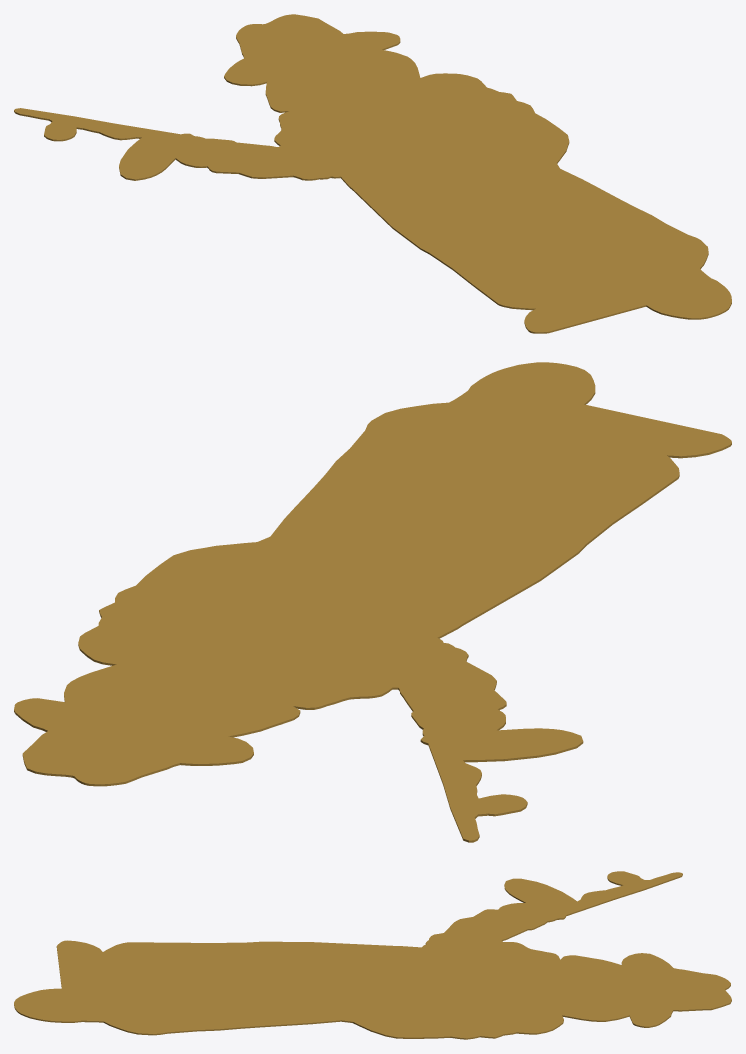
File: Blackjack Dealer Cardboard 2.fbx
The picture shows the model from 3 angles, top to bottom: view 1: azimuth 30°, elevation 25°; view 2: azimuth 150°, elevation 25°; view 3: azimuth 270°, elevation 25°; orthographic projection. The views are drawn at different scales.
Parts seen in each view (by area): view 1: Cardboard_Piece; view 2: Cardboard_Piece; view 3: Cardboard_Piece.
Boxes of the visible parts, x1,y1,x2,y2 form: Cardboard_Piece: (14, 14, 731, 333); Cardboard_Piece: (14, 362, 731, 842); Cardboard_Piece: (14, 871, 731, 1039).
Bounding box in the file's own units: 8.21 × 0.0309 × 14.91.
